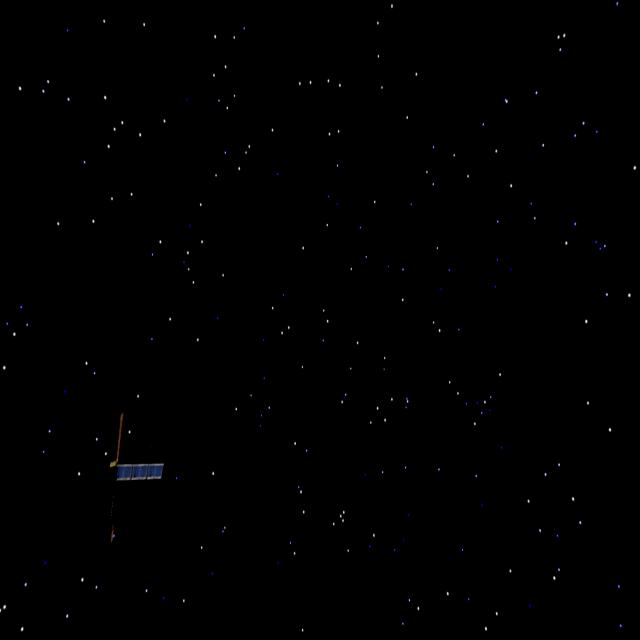satellite: (101, 399, 168, 549)
